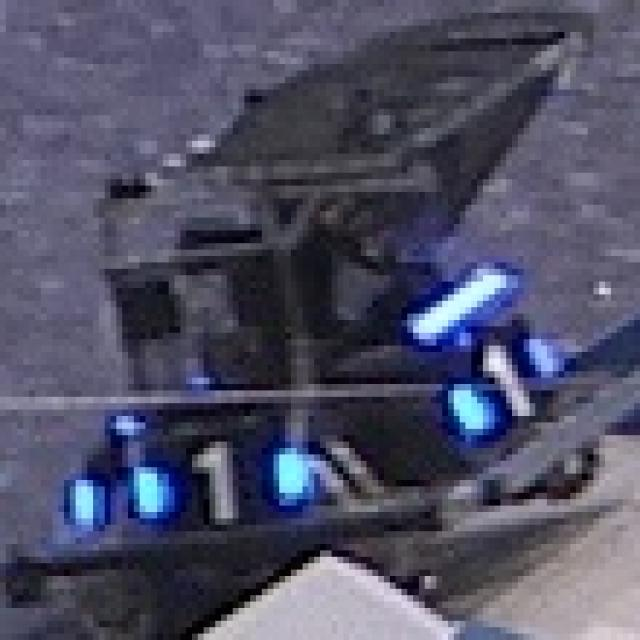B1: (128, 435, 303, 525), (442, 333, 559, 429)
